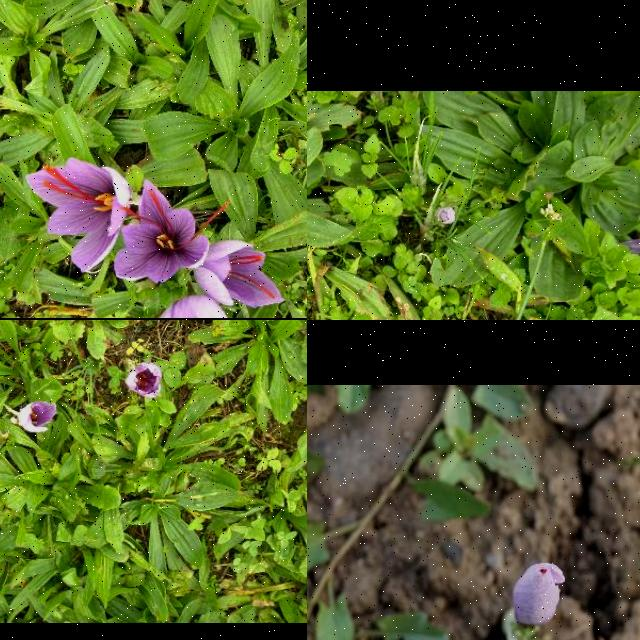flower: (114, 178, 230, 284), (26, 156, 130, 274), (195, 240, 288, 308), (512, 563, 564, 625), (156, 292, 230, 318), (125, 363, 161, 399), (18, 401, 58, 433), (434, 206, 456, 227)
